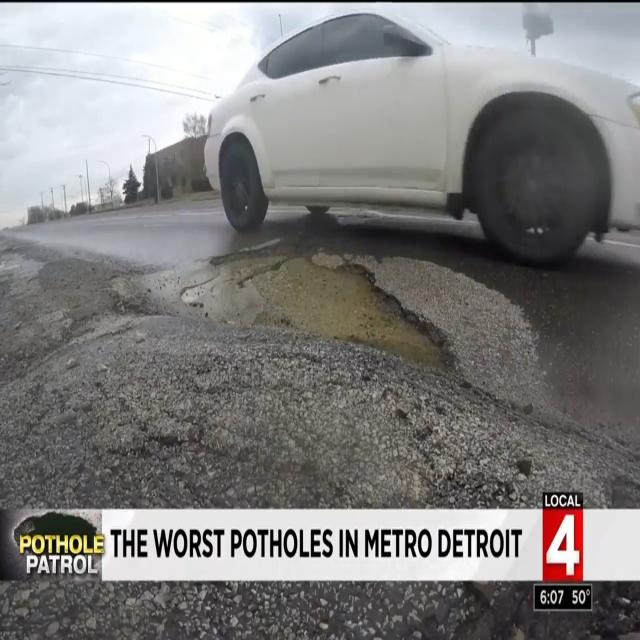pothole: (194, 263, 456, 383)
